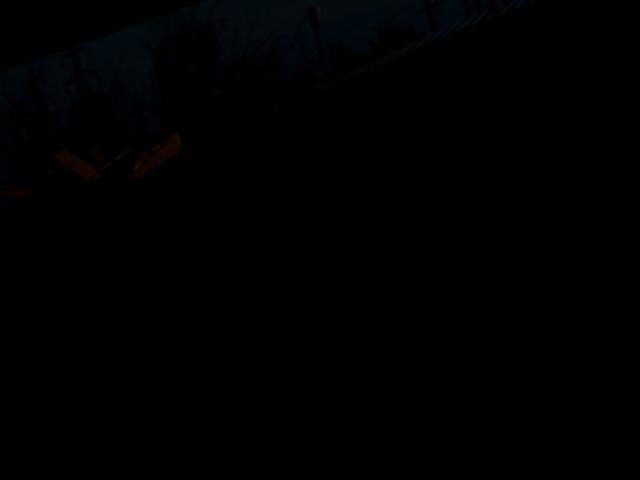iha: (0, 81, 255, 232)
